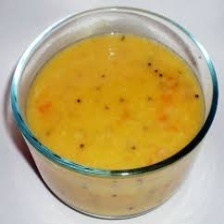dal: (22, 31, 207, 172)
